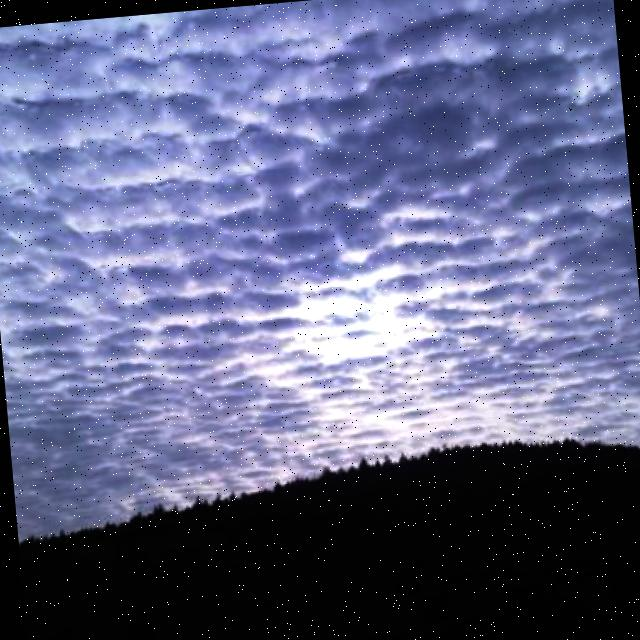Ac: (1, 1, 640, 427)
